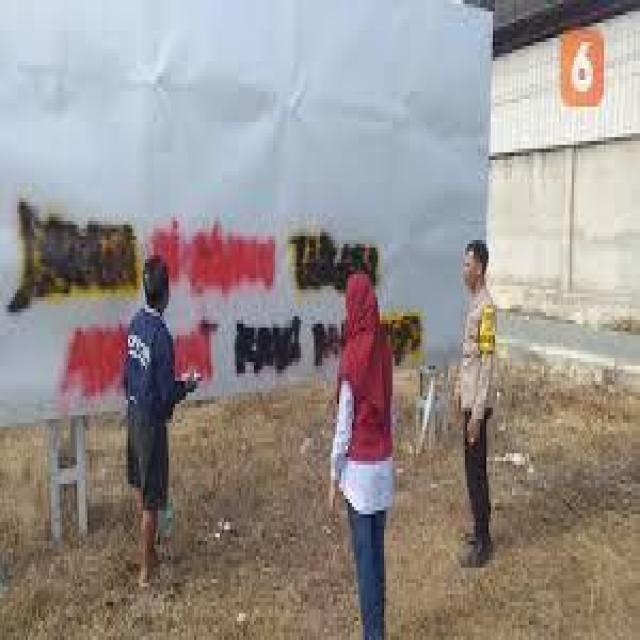nonspitting: (6, 198, 424, 394)
